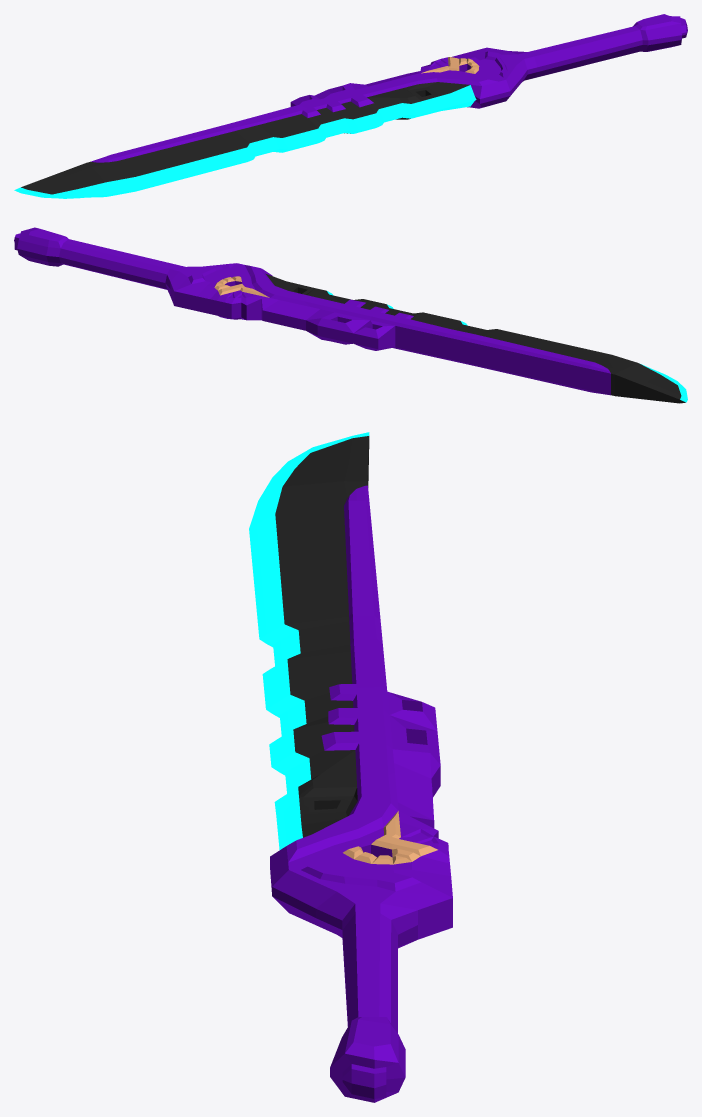
File: Swordd.fbx
3 renders of one model, top to bottom at view 1: azimuth 30°, elevation 25°; view 2: azimuth 150°, elevation 25°; view 3: azimuth 270°, elevation 25°, orthographic. The views are drawn at different scales.
Visible parts, largest first — view 1: Sword; view 2: Sword; view 3: Sword.
Part boxes in pixels (left/top/right/bottom): Sword: left=14, top=14, right=687, bottom=198; Sword: left=14, top=227, right=687, bottom=403; Sword: left=249, top=432, right=452, bottom=1102.
Bounding box in the file's own units: 520 × 19.76 × 68.48.
